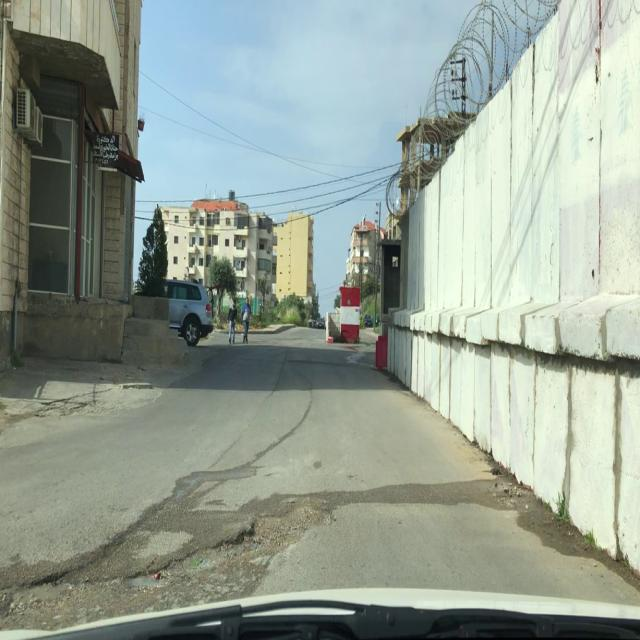Pothole: (210, 496, 338, 563)
